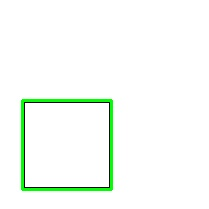line_segment: (21, 99, 113, 191)
